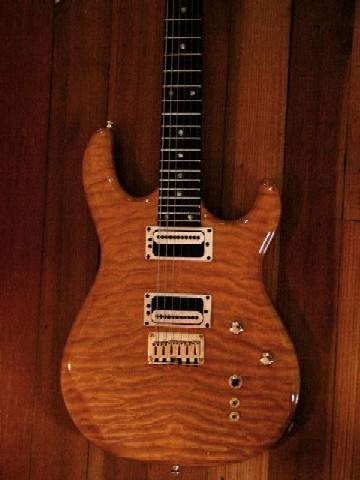guitar: (63, 2, 301, 465)
